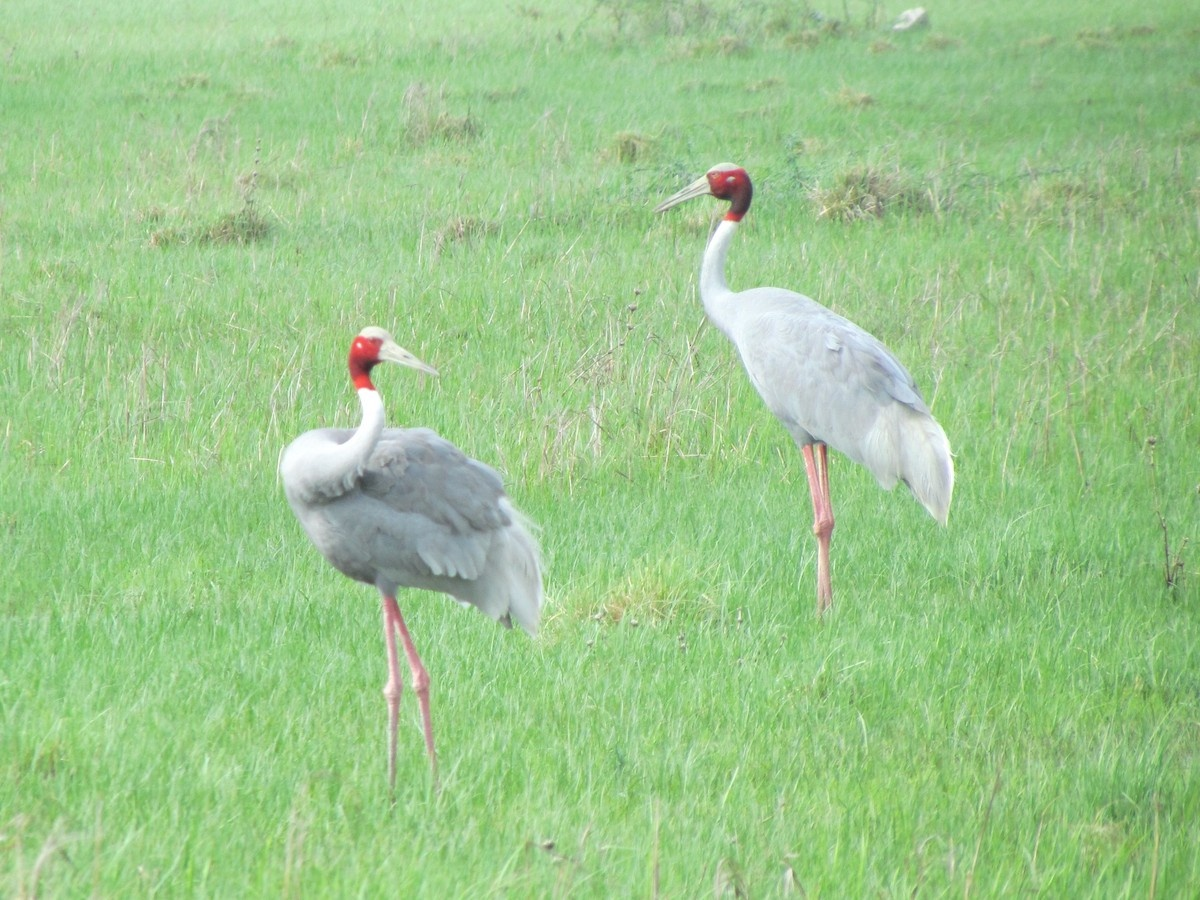crane: (648, 151, 965, 616), (277, 321, 561, 795)
